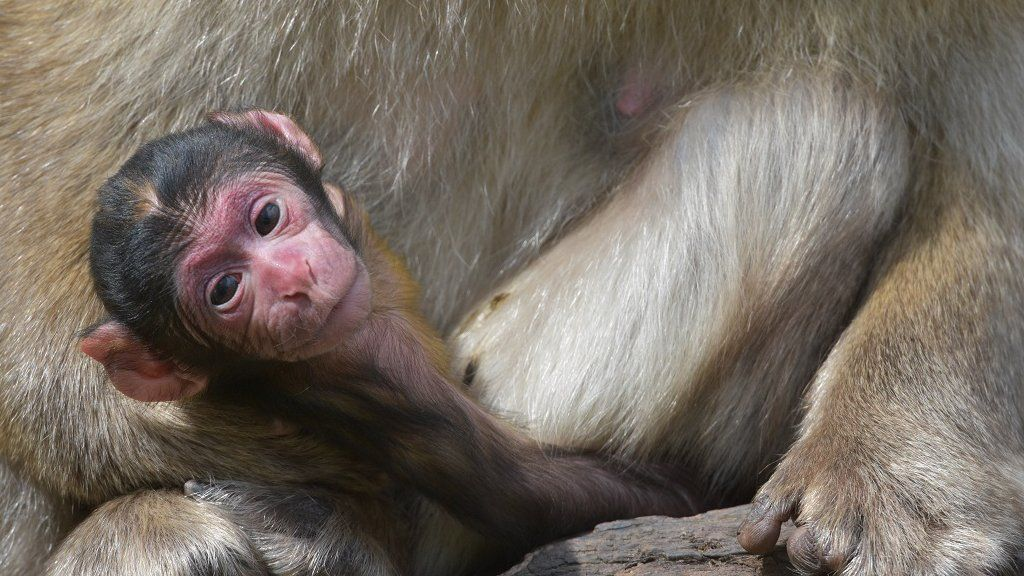monkey_face: (47, 99, 418, 373)
